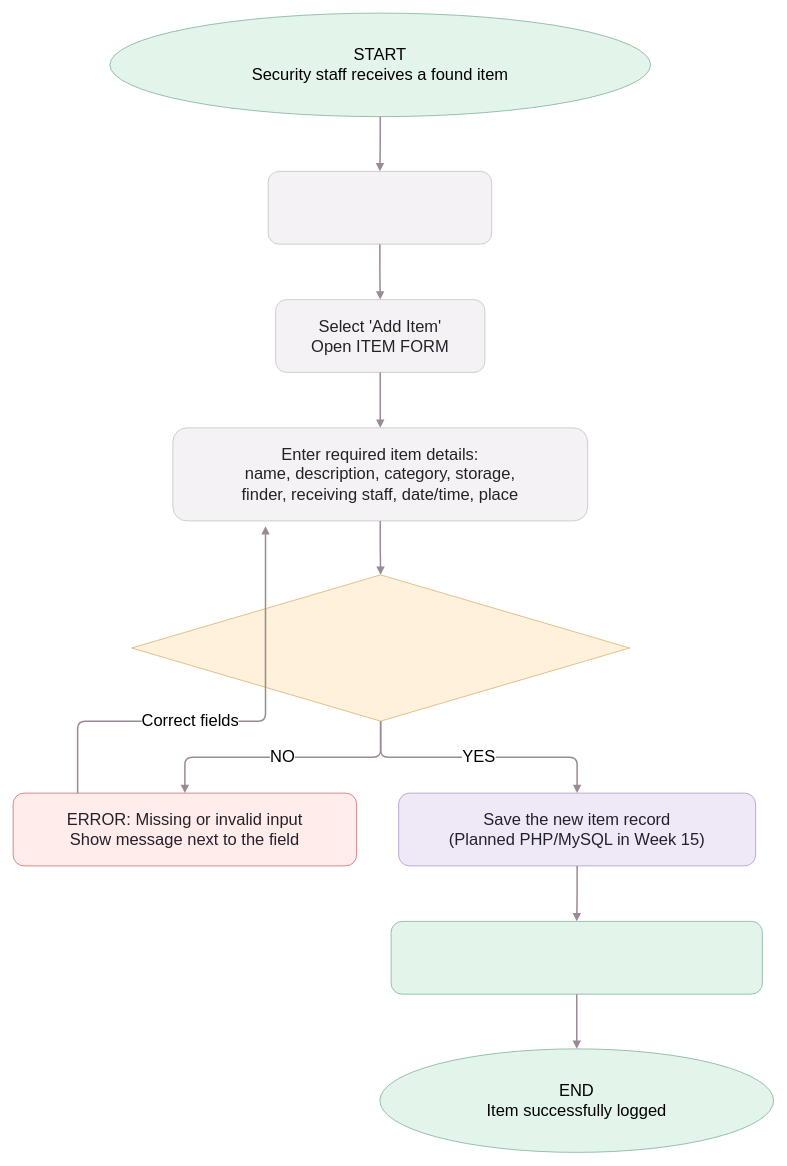
Some shapes in this 787 by 1166 pixel diagram are drawn without their labels. The centre of each missing label's shape, as x and y in pixels:
"Are all required fields complete and valid?" belongs at point 380,647.
"Open ITEMS LIST (View found items)" belongs at point 379,207.
"Show ITEMS LIST with new item + success message" belongs at point 576,957.
